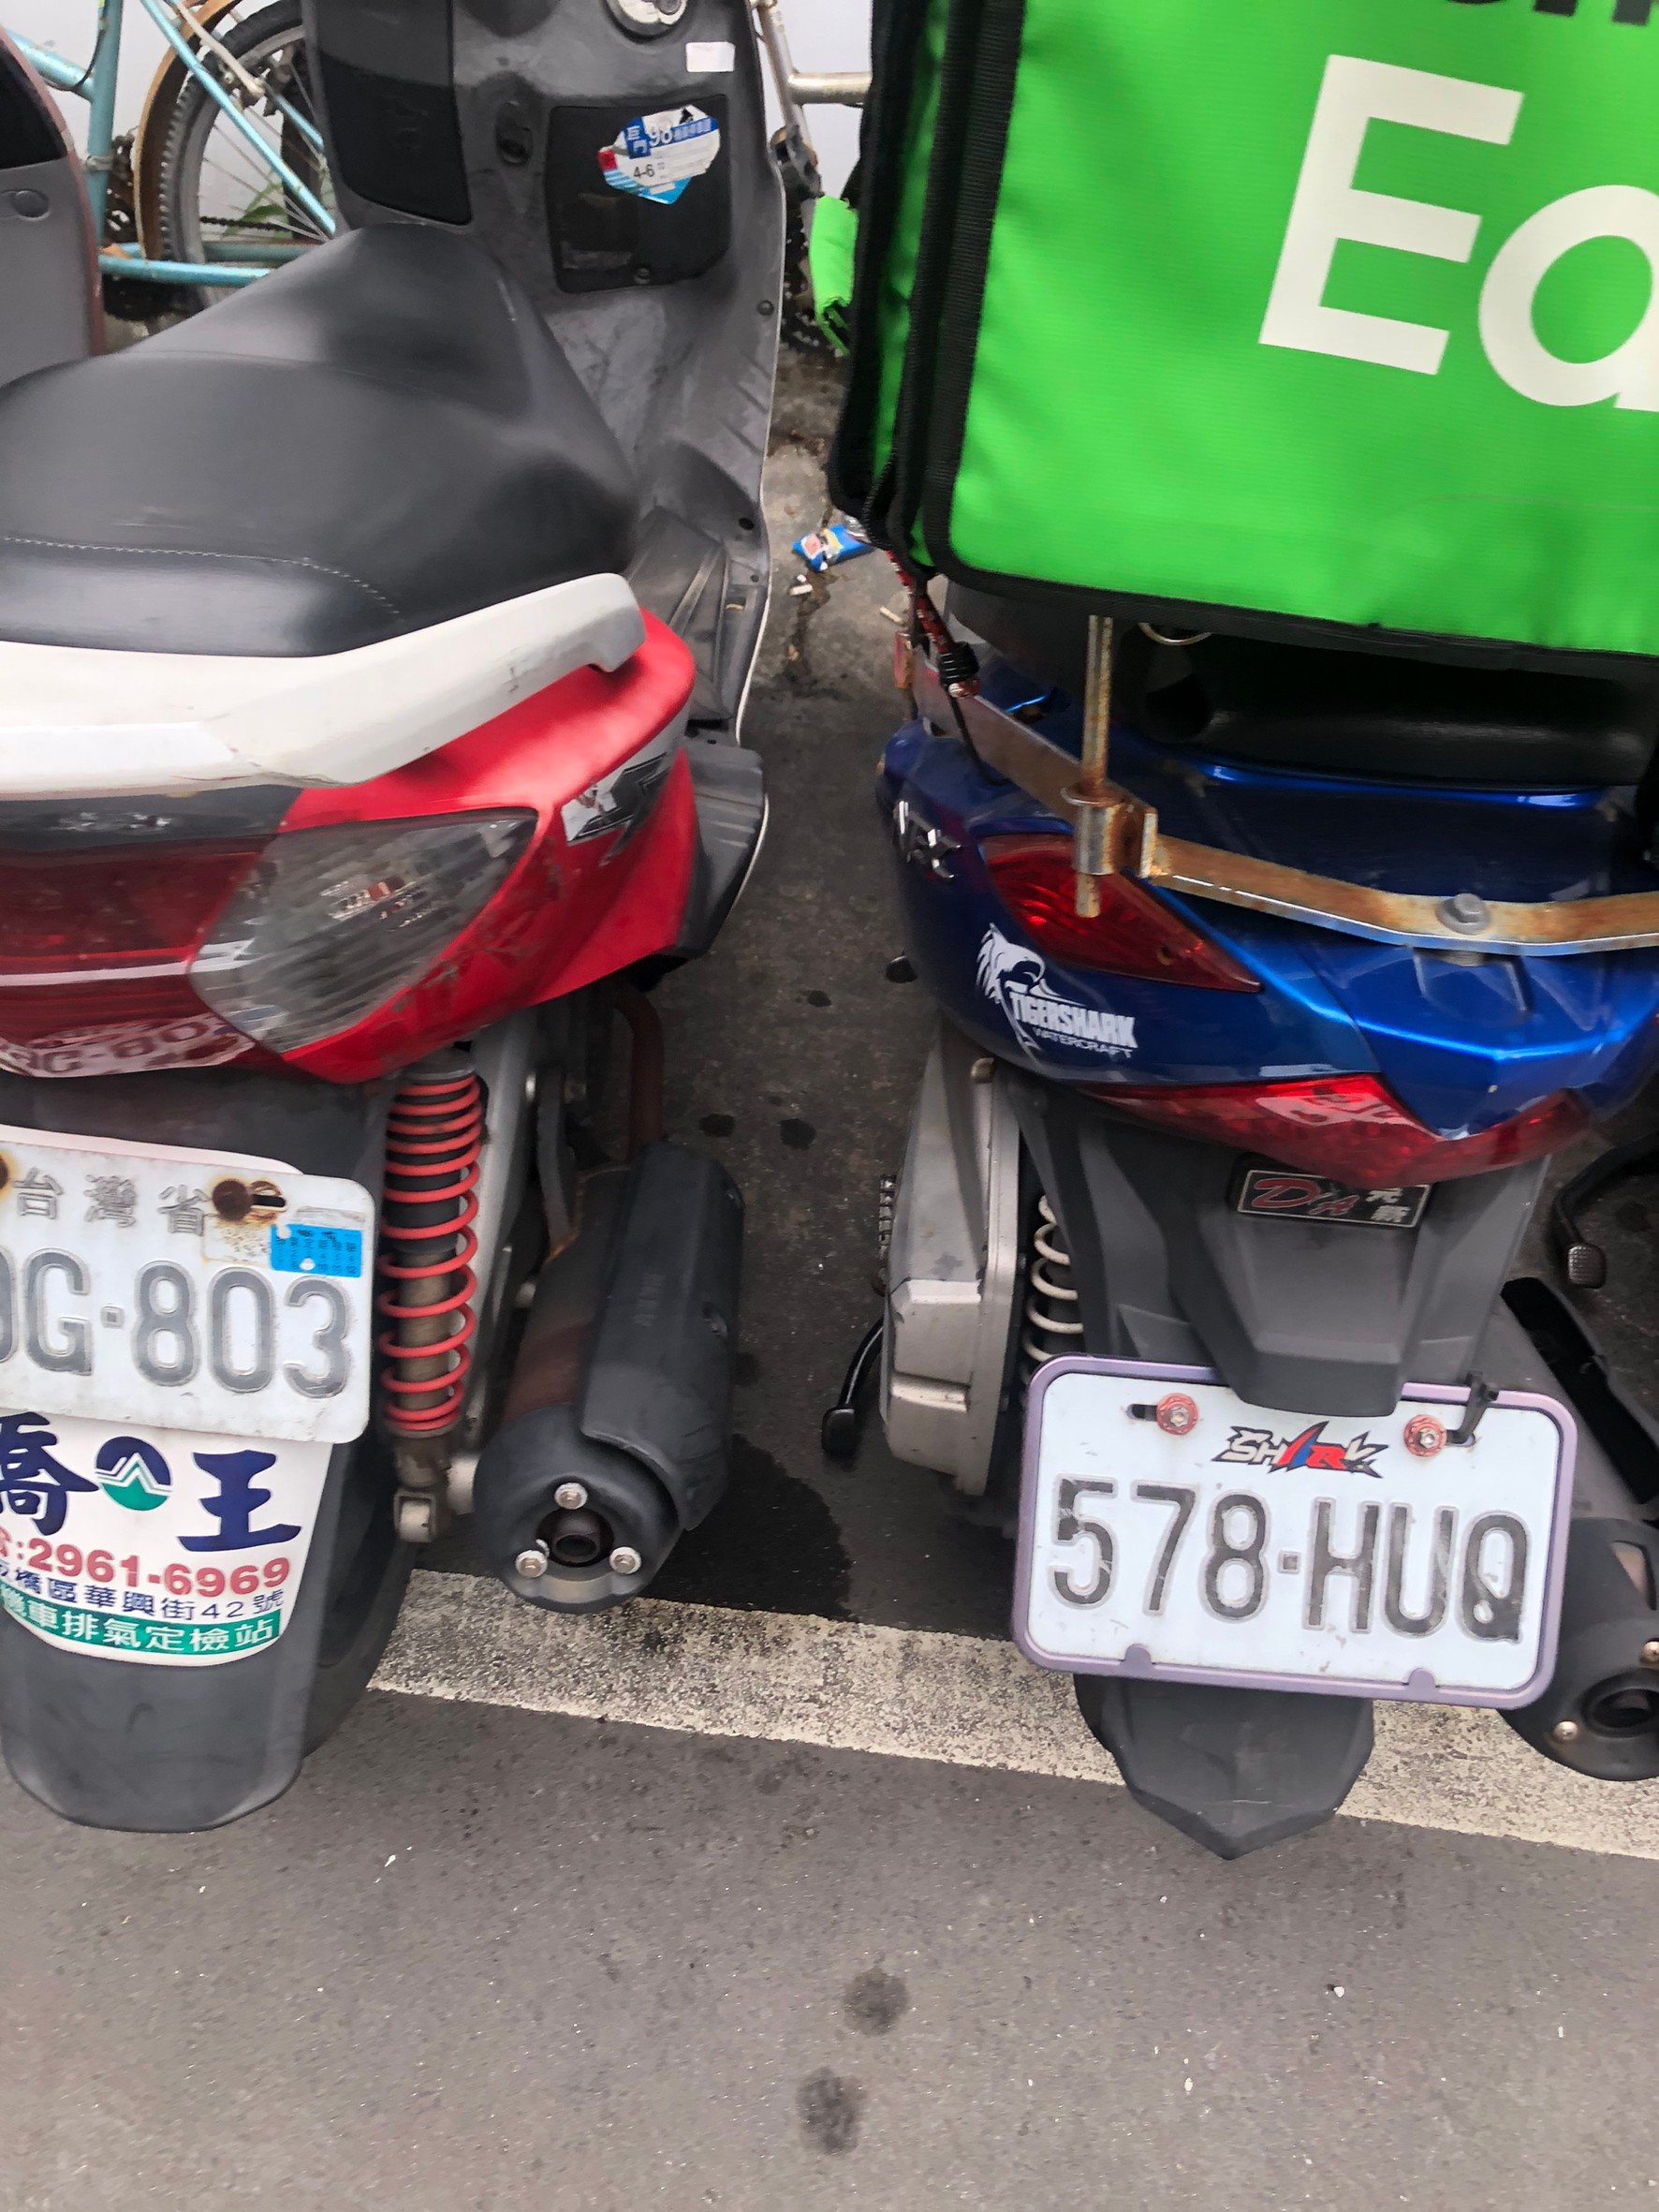LP: (1002, 1358, 1577, 1687), (2, 1143, 373, 1440)
